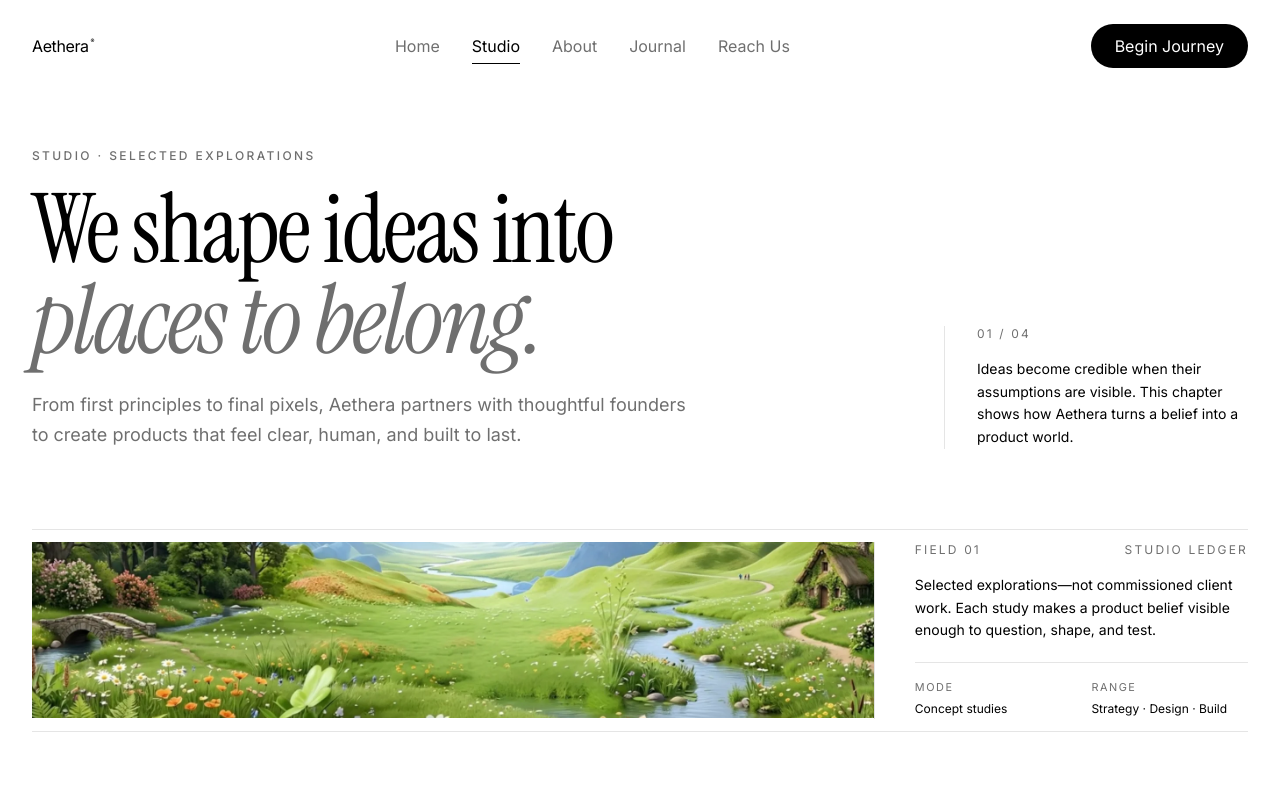
Test case: Aethera routes › takes the header journey action to the contact page
What coordinates should you click on to do the following:
click the link "Begin Journey"
I would click on:
 (1169, 46)
Its box is [1091,24,1248,68].
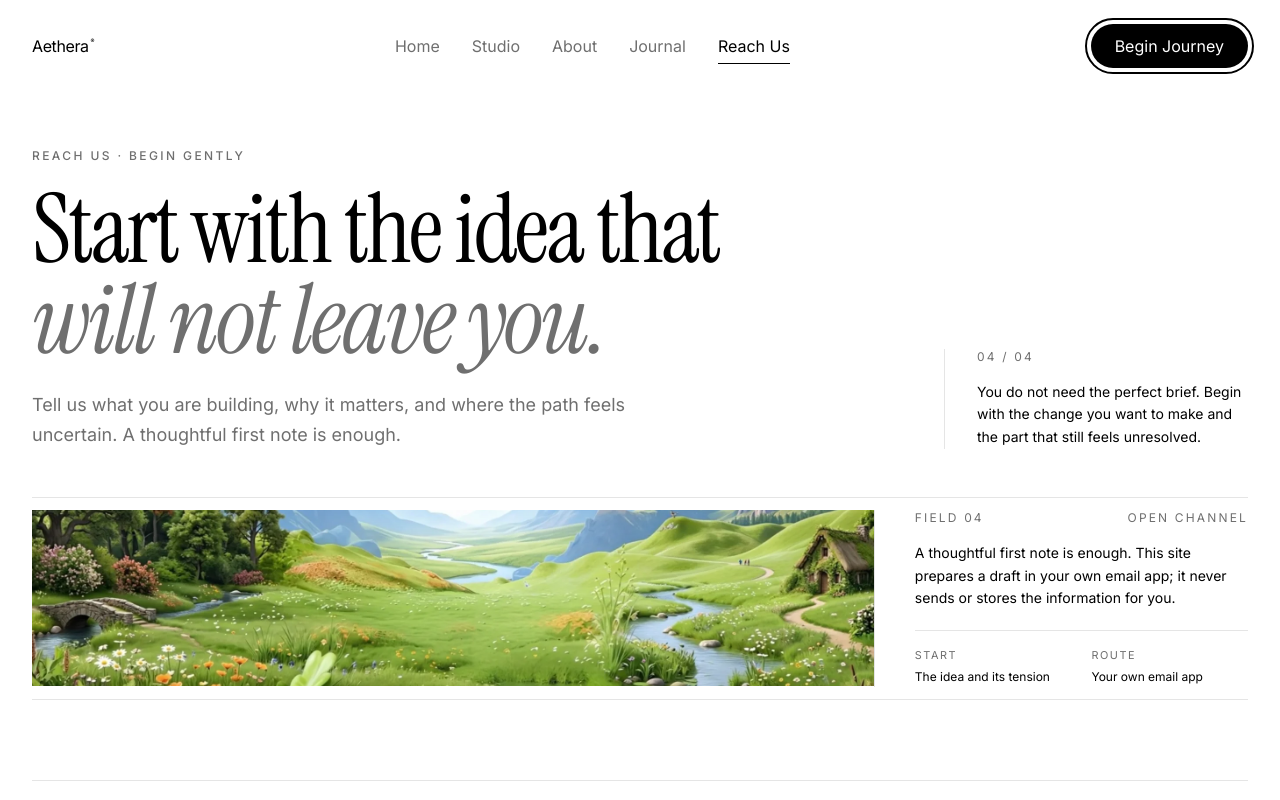
Now the heading "Start with the idea that will not leave you." is shown, box [32,167,719,383]
